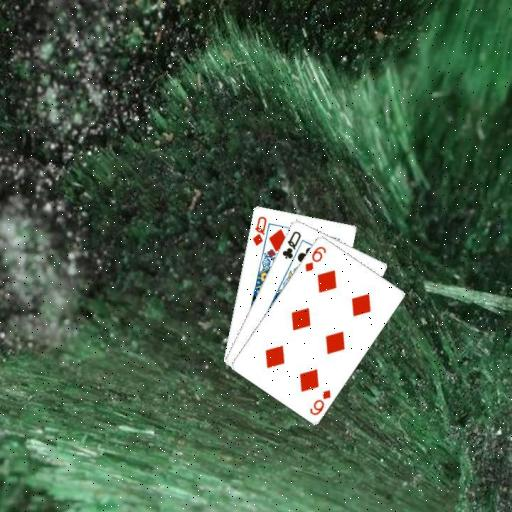6D: (302, 243, 328, 273), (307, 387, 333, 417)
QC: (279, 228, 303, 260)
QD: (249, 213, 268, 247)
